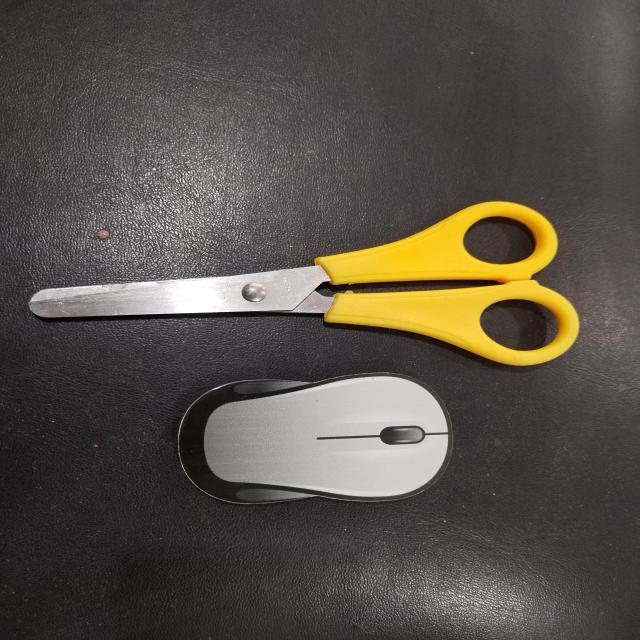Other Objects: (26, 161, 598, 370), (173, 370, 457, 510)
